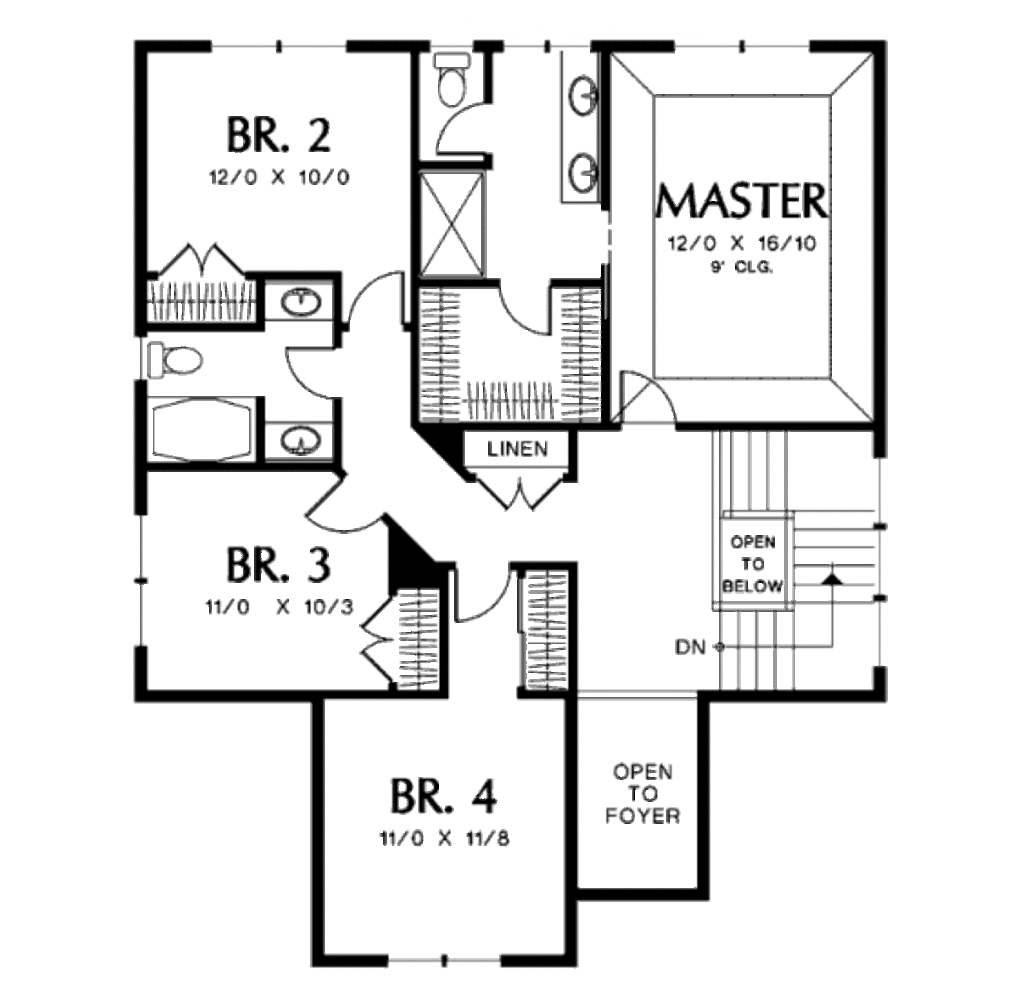door: (301, 468, 390, 536), (442, 559, 521, 628), (604, 369, 679, 437), (485, 274, 557, 343), (154, 239, 253, 286), (471, 463, 565, 511), (337, 266, 402, 331), (276, 342, 347, 399), (428, 103, 491, 163), (361, 596, 399, 683)
large_sink: (127, 332, 217, 389), (419, 46, 476, 102)
small_sink: (551, 45, 616, 211), (262, 416, 345, 465), (254, 277, 336, 323)
stairs: (696, 426, 890, 700)
tub: (145, 400, 261, 462)
window: (662, 31, 816, 59), (202, 36, 351, 57)
